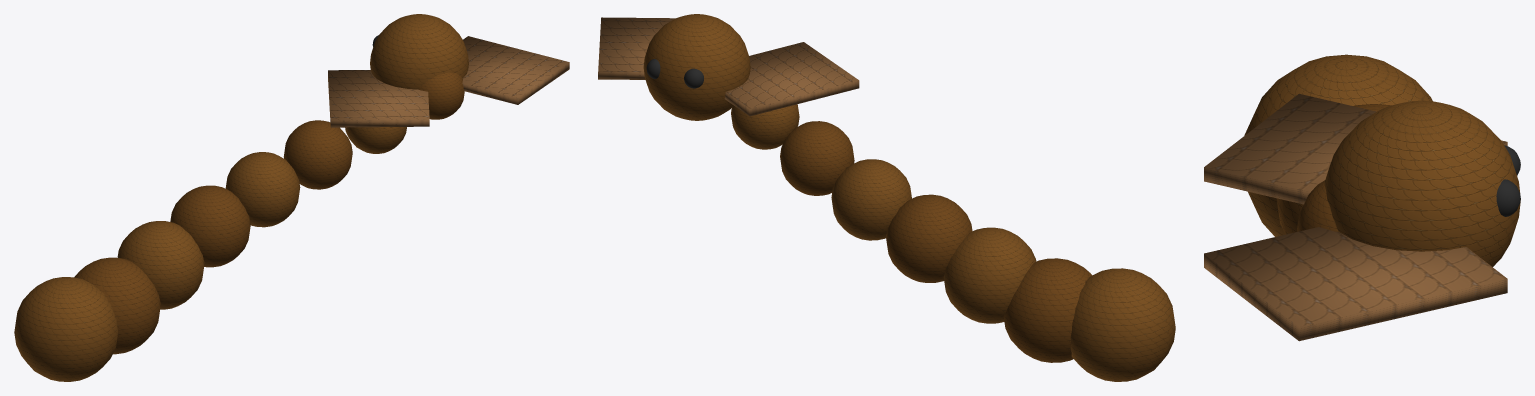
File: jaculus.glb
3 renders of one model, left to right at view 1: azimuth 30°, elevation 25°; view 2: azimuth 150°, elevation 25°; view 3: azimuth 270°, elevation 25°, orthographic. The views are drawn at different scales.
Visible parts, largest first — view 1: Segment, Head, Wing, Segment.002, Wing.001, Segment.003, Segment.001, Segment.004, Segment.005, Segment.007, Segment.006; view 2: Segment, Head, Segment.001, Segment.002, Wing, Segment.003, Segment.004, Segment.005, Wing.001, Segment.006; view 3: Head, Wing.001, Wing, Segment, Segment.007, Segment.001, Eye.001.
Part boxes in pixels (box(x1,y1,x2,y2)): Segment: box(14, 277, 118, 381); Head: box(370, 14, 468, 89); Wing: box(328, 70, 429, 127); Segment.002: box(117, 221, 204, 309); Wing.001: box(462, 36, 569, 104); Segment.003: box(170, 185, 250, 267); Segment.001: box(74, 257, 160, 354); Segment.004: box(225, 152, 300, 227); Segment.005: box(283, 120, 352, 189); Segment.007: box(418, 72, 464, 119); Segment.006: box(345, 127, 406, 153); Segment: box(1070, 268, 1175, 381); Head: box(643, 14, 750, 120); Segment.001: box(1003, 258, 1092, 362); Segment.002: box(943, 227, 1036, 323); Wing: box(724, 42, 859, 116); Segment.003: box(886, 194, 972, 282); Segment.004: box(831, 159, 911, 240); Segment.005: box(780, 121, 854, 195); Wing.001: box(598, 17, 675, 79); Segment.006: box(731, 104, 799, 149); Head: box(1324, 100, 1520, 266); Wing.001: box(1204, 227, 1507, 341); Wing: box(1204, 93, 1507, 204); Segment: box(1244, 54, 1432, 236); Segment.007: box(1297, 180, 1338, 231); Segment.001: box(1276, 104, 1391, 234); Eye.001: box(1496, 179, 1520, 216).
Bounding box in the file's own units: 1.88 × 0.85 × 0.4799.
Materials: 4 (3 with a texture image).
